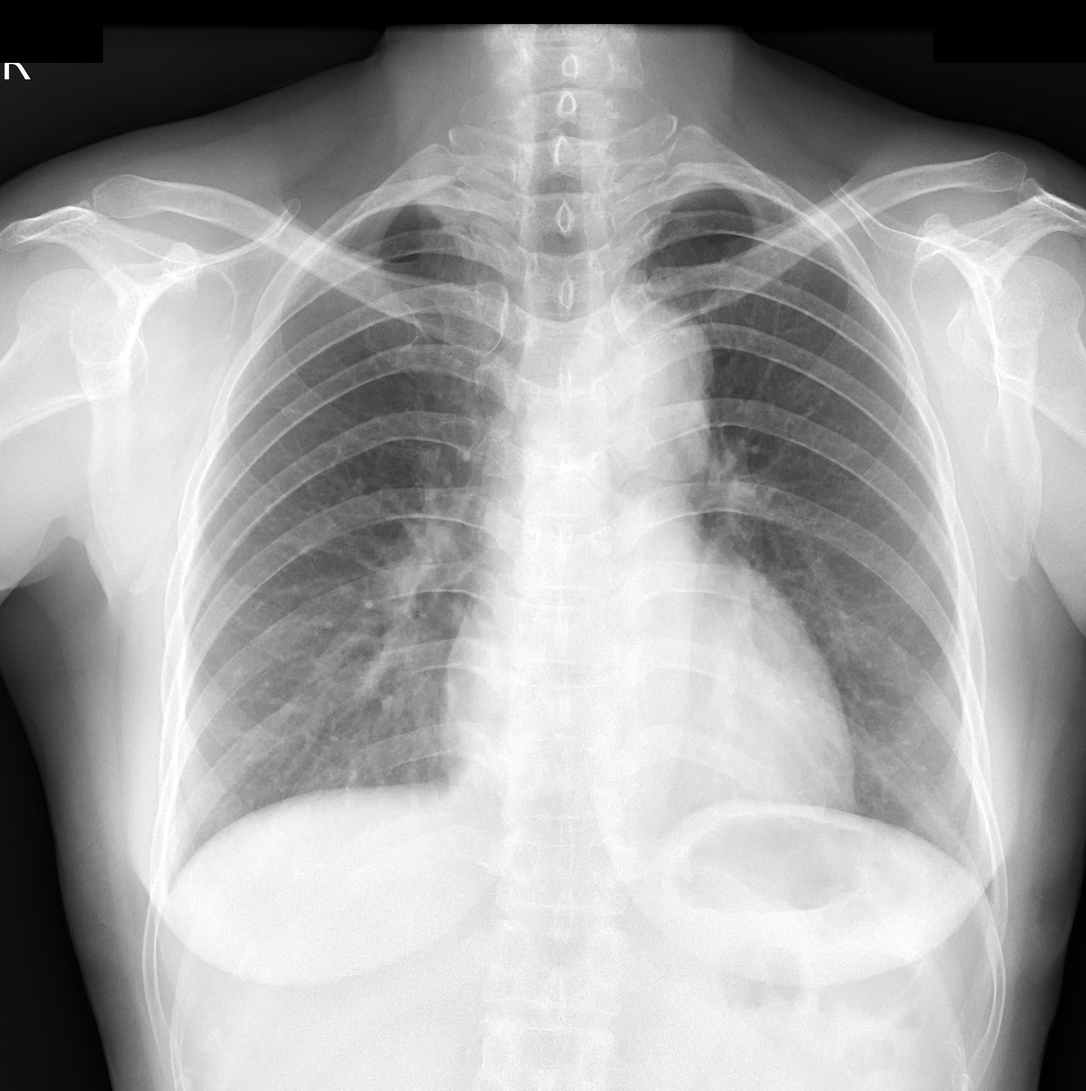Aortic enlargement: (559, 293, 725, 482)
Cardiomegaly: (430, 701, 865, 850)
